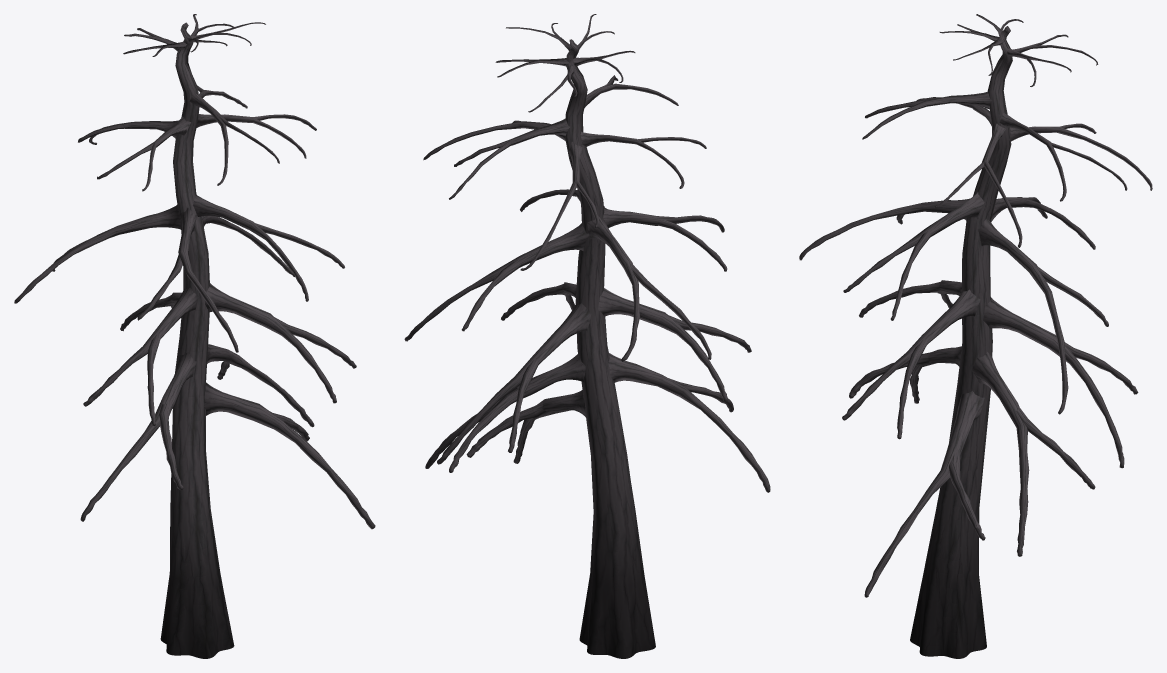
The model's file is DeadTree_5.glb.
3 views of the same model, side by side, from view 1: azimuth 30°, elevation 25°; view 2: azimuth 150°, elevation 25°; view 3: azimuth 270°, elevation 25° (orthographic). The views are drawn at different scales.
Visible parts, largest first — view 1: DeadTree_5; view 2: DeadTree_5; view 3: DeadTree_5.
Part boxes in pixels (x1,y1,x2,y2): DeadTree_5: (14, 14, 375, 658); DeadTree_5: (404, 14, 770, 658); DeadTree_5: (799, 14, 1152, 658).
Size of the model in its own units: 8.36 by 16.44 by 8.41.
Materials: 1 (1 with a texture image).
